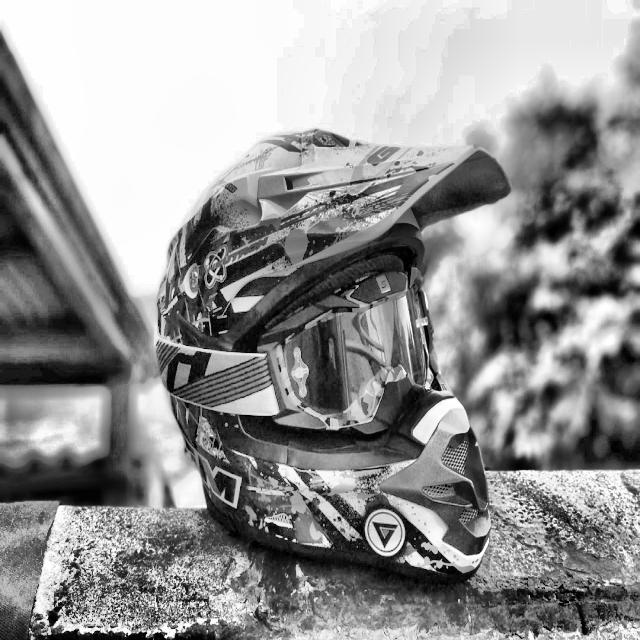Helmet: (147, 120, 525, 598)
